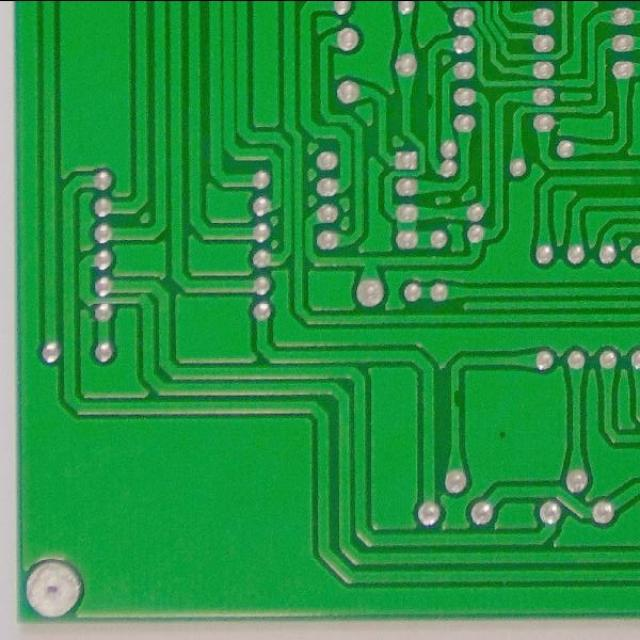mouse_bite: (446, 384, 464, 414), (423, 89, 438, 114)
